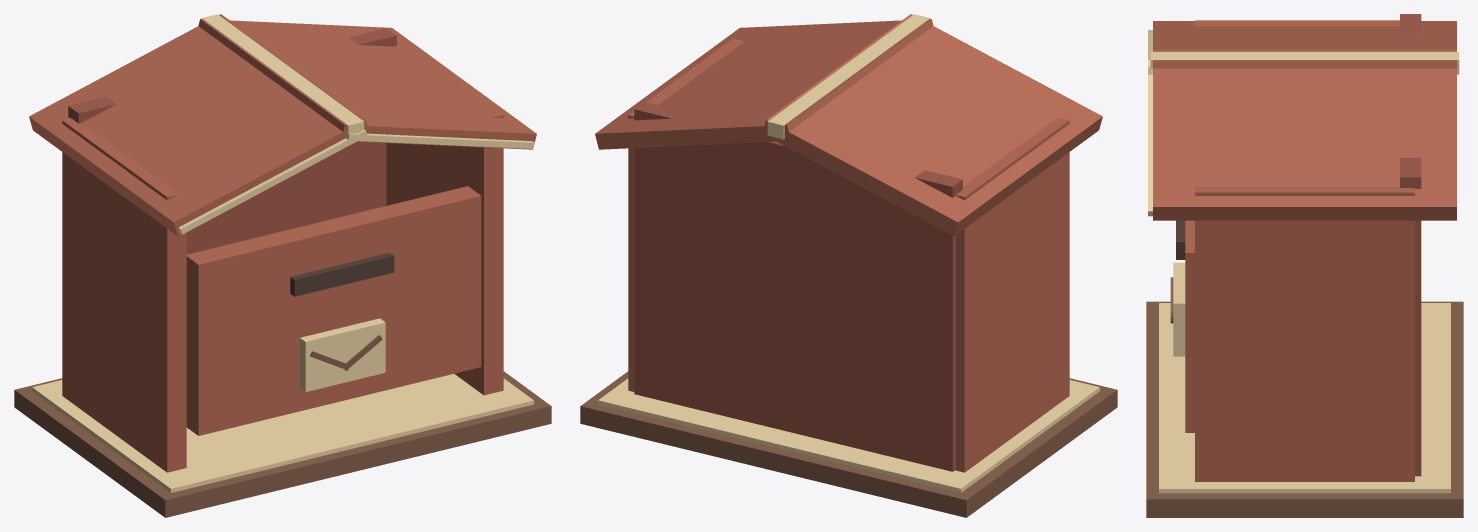
Rendered from mail_kiosk.glb.
3 views of the same model, side by side, from view 1: azimuth 30°, elevation 25°; view 2: azimuth 150°, elevation 25°; view 3: azimuth 270°, elevation 25° (orthographic). The views are drawn at different scales.
Visible parts, largest first — view 1: folded_roof (×2), face, left_wall, paper_top, paper_base, right_wall, back_wall, envelope_plaque, front_paper_edge (×2), roof_ridge, mail_slot_inset; view 2: back_wall, folded_roof (×2), left_wall, paper_base, paper_top, right_wall, roof_ridge; view 3: right_wall, folded_roof (×2), paper_top, paper_base, back_wall, roof_ridge, face, left_wall, envelope_plaque, front_paper_edge, mail_slot_inset.
Boxes of the visible parts, x1,y1,x2,y2 form: folded_roof (×2): (29, 14, 536, 236); face: (186, 186, 481, 435); left_wall: (62, 118, 186, 472); paper_top: (32, 374, 533, 492); paper_base: (14, 371, 551, 517); right_wall: (386, 38, 503, 395); back_wall: (68, 28, 396, 254); envelope_plaque: (300, 318, 385, 391); front_paper_edge (×2): (178, 129, 534, 234); roof_ridge: (201, 14, 364, 133); mail_slot_inset: (290, 252, 394, 296); back_wall: (634, 102, 962, 471); folded_roof (×2): (595, 14, 1102, 236); left_wall: (955, 117, 1069, 472); paper_base: (580, 371, 1117, 517); paper_top: (598, 378, 1099, 492); right_wall: (628, 38, 744, 391); roof_ridge: (767, 14, 930, 139); right_wall: (1195, 186, 1414, 481); folded_roof (×2): (1153, 21, 1456, 220); paper_top: (1159, 303, 1450, 493); paper_base: (1146, 301, 1463, 517); back_wall: (1400, 14, 1421, 476); roof_ridge: (1150, 52, 1459, 74); face: (1185, 220, 1194, 432); left_wall: (1195, 20, 1399, 26); envelope_plaque: (1173, 262, 1185, 356); front_paper_edge: (1148, 60, 1152, 216); mail_slot_inset: (1176, 220, 1185, 259).
Bounding box in the file's own units: 2.17 × 1.86 × 1.47.
